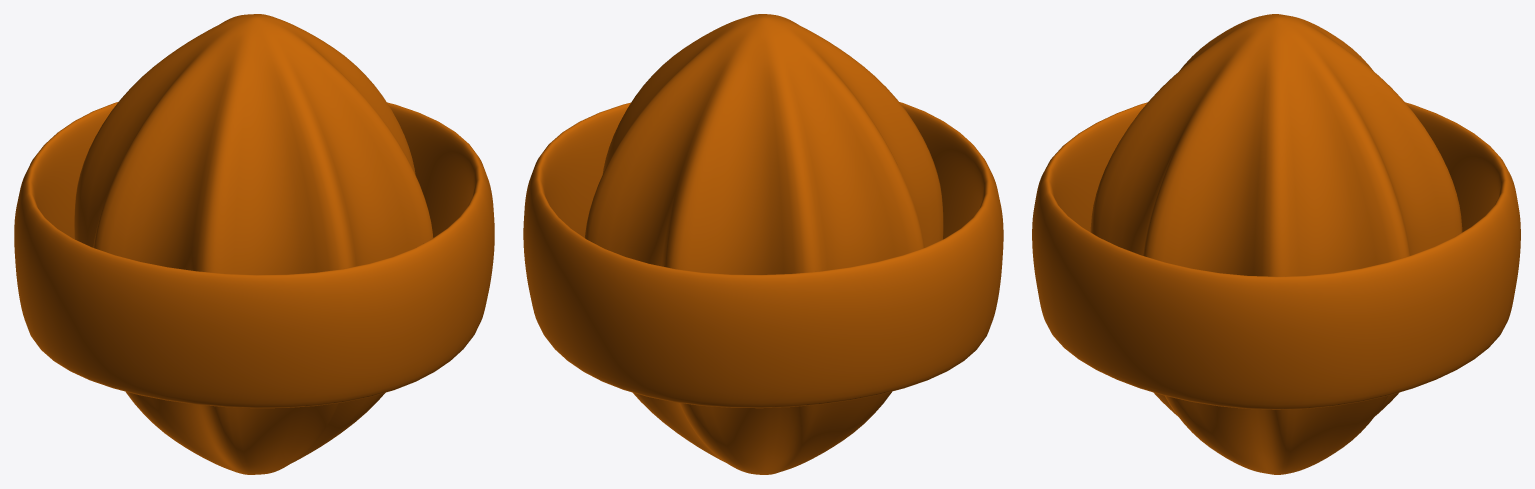
File: exprimidor modo.fbx
The picture shows the model from 3 angles, left to right: view 1: azimuth 30°, elevation 25°; view 2: azimuth 150°, elevation 25°; view 3: azimuth 270°, elevation 25°; orthographic projection.
Visible parts, largest first — view 1: posta; view 2: posta; view 3: posta.
Boxes of the visible parts, <box> form: posta: <box>14,14,494,474</box>; posta: <box>523,14,1003,474</box>; posta: <box>1032,14,1520,474</box>.
Bounding box in the file's own units: 38.86 × 39.7 × 38.86.
